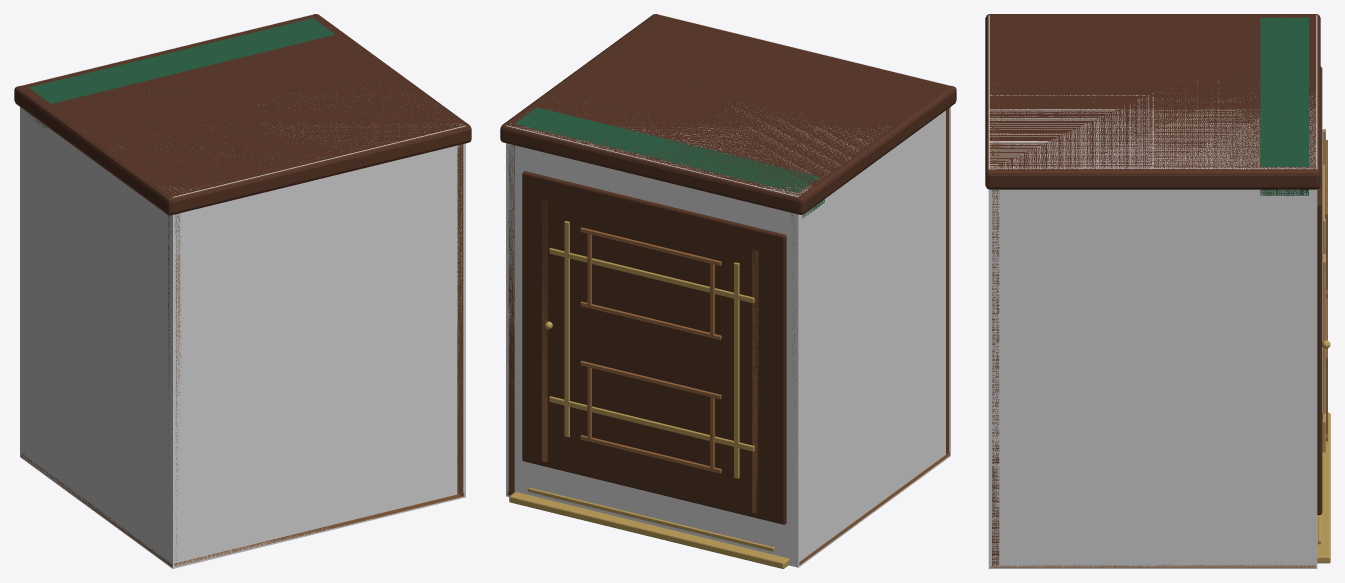
The model's file is executive.glb.
3 renders of one model, left to right at view 1: azimuth 30°, elevation 25°; view 2: azimuth 150°, elevation 25°; view 3: azimuth 270°, elevation 25°, orthographic. The views are drawn at different scales.
Parts seen in each view (by area): view 1: COL_FITTING_ROOMS_EXECUTIVE, FittingRoom_ExecutiveCornice, FittingRoom_Header.004, FittingRoom_Side.009, FittingRoom_SteppedPlinth, FittingRoom_Side.008; view 2: COL_FITTING_ROOMS_EXECUTIVE, FittingRoom_Door.001, FittingRoom_ExecutiveCornice, FittingRoom_Header.004, FittingRoom_Threshold.001, FittingRoom_Side.009, FittingRoom_FlutedSide, FittingRoom_FlutedSide.001, FittingRoom_Back.004, FittingRoom_DoorRail.003, FittingRoom_BrassToeKick.001, FittingRoom_DoorRail.002 (+7 smaller); view 3: COL_FITTING_ROOMS_EXECUTIVE, FittingRoom_ExecutiveCornice, FittingRoom_Header.004, FittingRoom_Back.004, FittingRoom_Door.001, FittingRoom_Threshold.001, FittingRoom_SteppedPlinth, FittingRoom_DoorStile.003.
Part boxes in pixels (x1,y1,x2,y2): COL_FITTING_ROOMS_EXECUTIVE: (20,14,465,568); FittingRoom_ExecutiveCornice: (14,14,471,215); FittingRoom_Header.004: (28,18,334,128); FittingRoom_Side.009: (457,144,463,496); FittingRoom_SteppedPlinth: (21,453,464,566); FittingRoom_Side.008: (175,213,181,560); COL_FITTING_ROOMS_EXECUTIVE: (506,14,950,567); FittingRoom_Door.001: (522,171,786,524); FittingRoom_ExecutiveCornice: (500,14,956,214); FittingRoom_Header.004: (514,107,824,218); FittingRoom_Threshold.001: (509,492,789,568); FittingRoom_Side.009: (508,145,514,494); FittingRoom_FlutedSide: (752,249,758,513); FittingRoom_FlutedSide.001: (542,198,547,462); FittingRoom_Back.004: (946,108,949,454); FittingRoom_DoorRail.003: (549,248,754,303); FittingRoom_BrassToeKick.001: (528,487,774,551); FittingRoom_DoorRail.002: (549,396,754,451); COL_FITTING_ROOMS_EXECUTIVE: (988,15,1317,568); FittingRoom_ExecutiveCornice: (985,14,1320,189); FittingRoom_Header.004: (1260,17,1308,195); FittingRoom_Back.004: (992,83,999,566); FittingRoom_Door.001: (1317,67,1322,514); FittingRoom_Threshold.001: (1317,412,1330,563); FittingRoom_SteppedPlinth: (990,564,1315,567); FittingRoom_DoorStile.003: (1322,218,1325,452).
Bounding box in the file's own units: 2.17 × 2.53 × 1.98.
